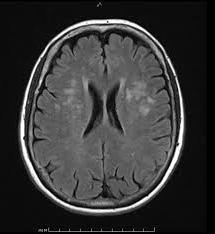Normal_Brain: (16, 10, 215, 229)
